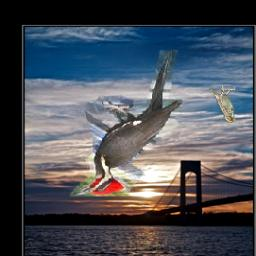Sparrow: (209, 86, 235, 124)
Woodpecker: (71, 51, 183, 198)
